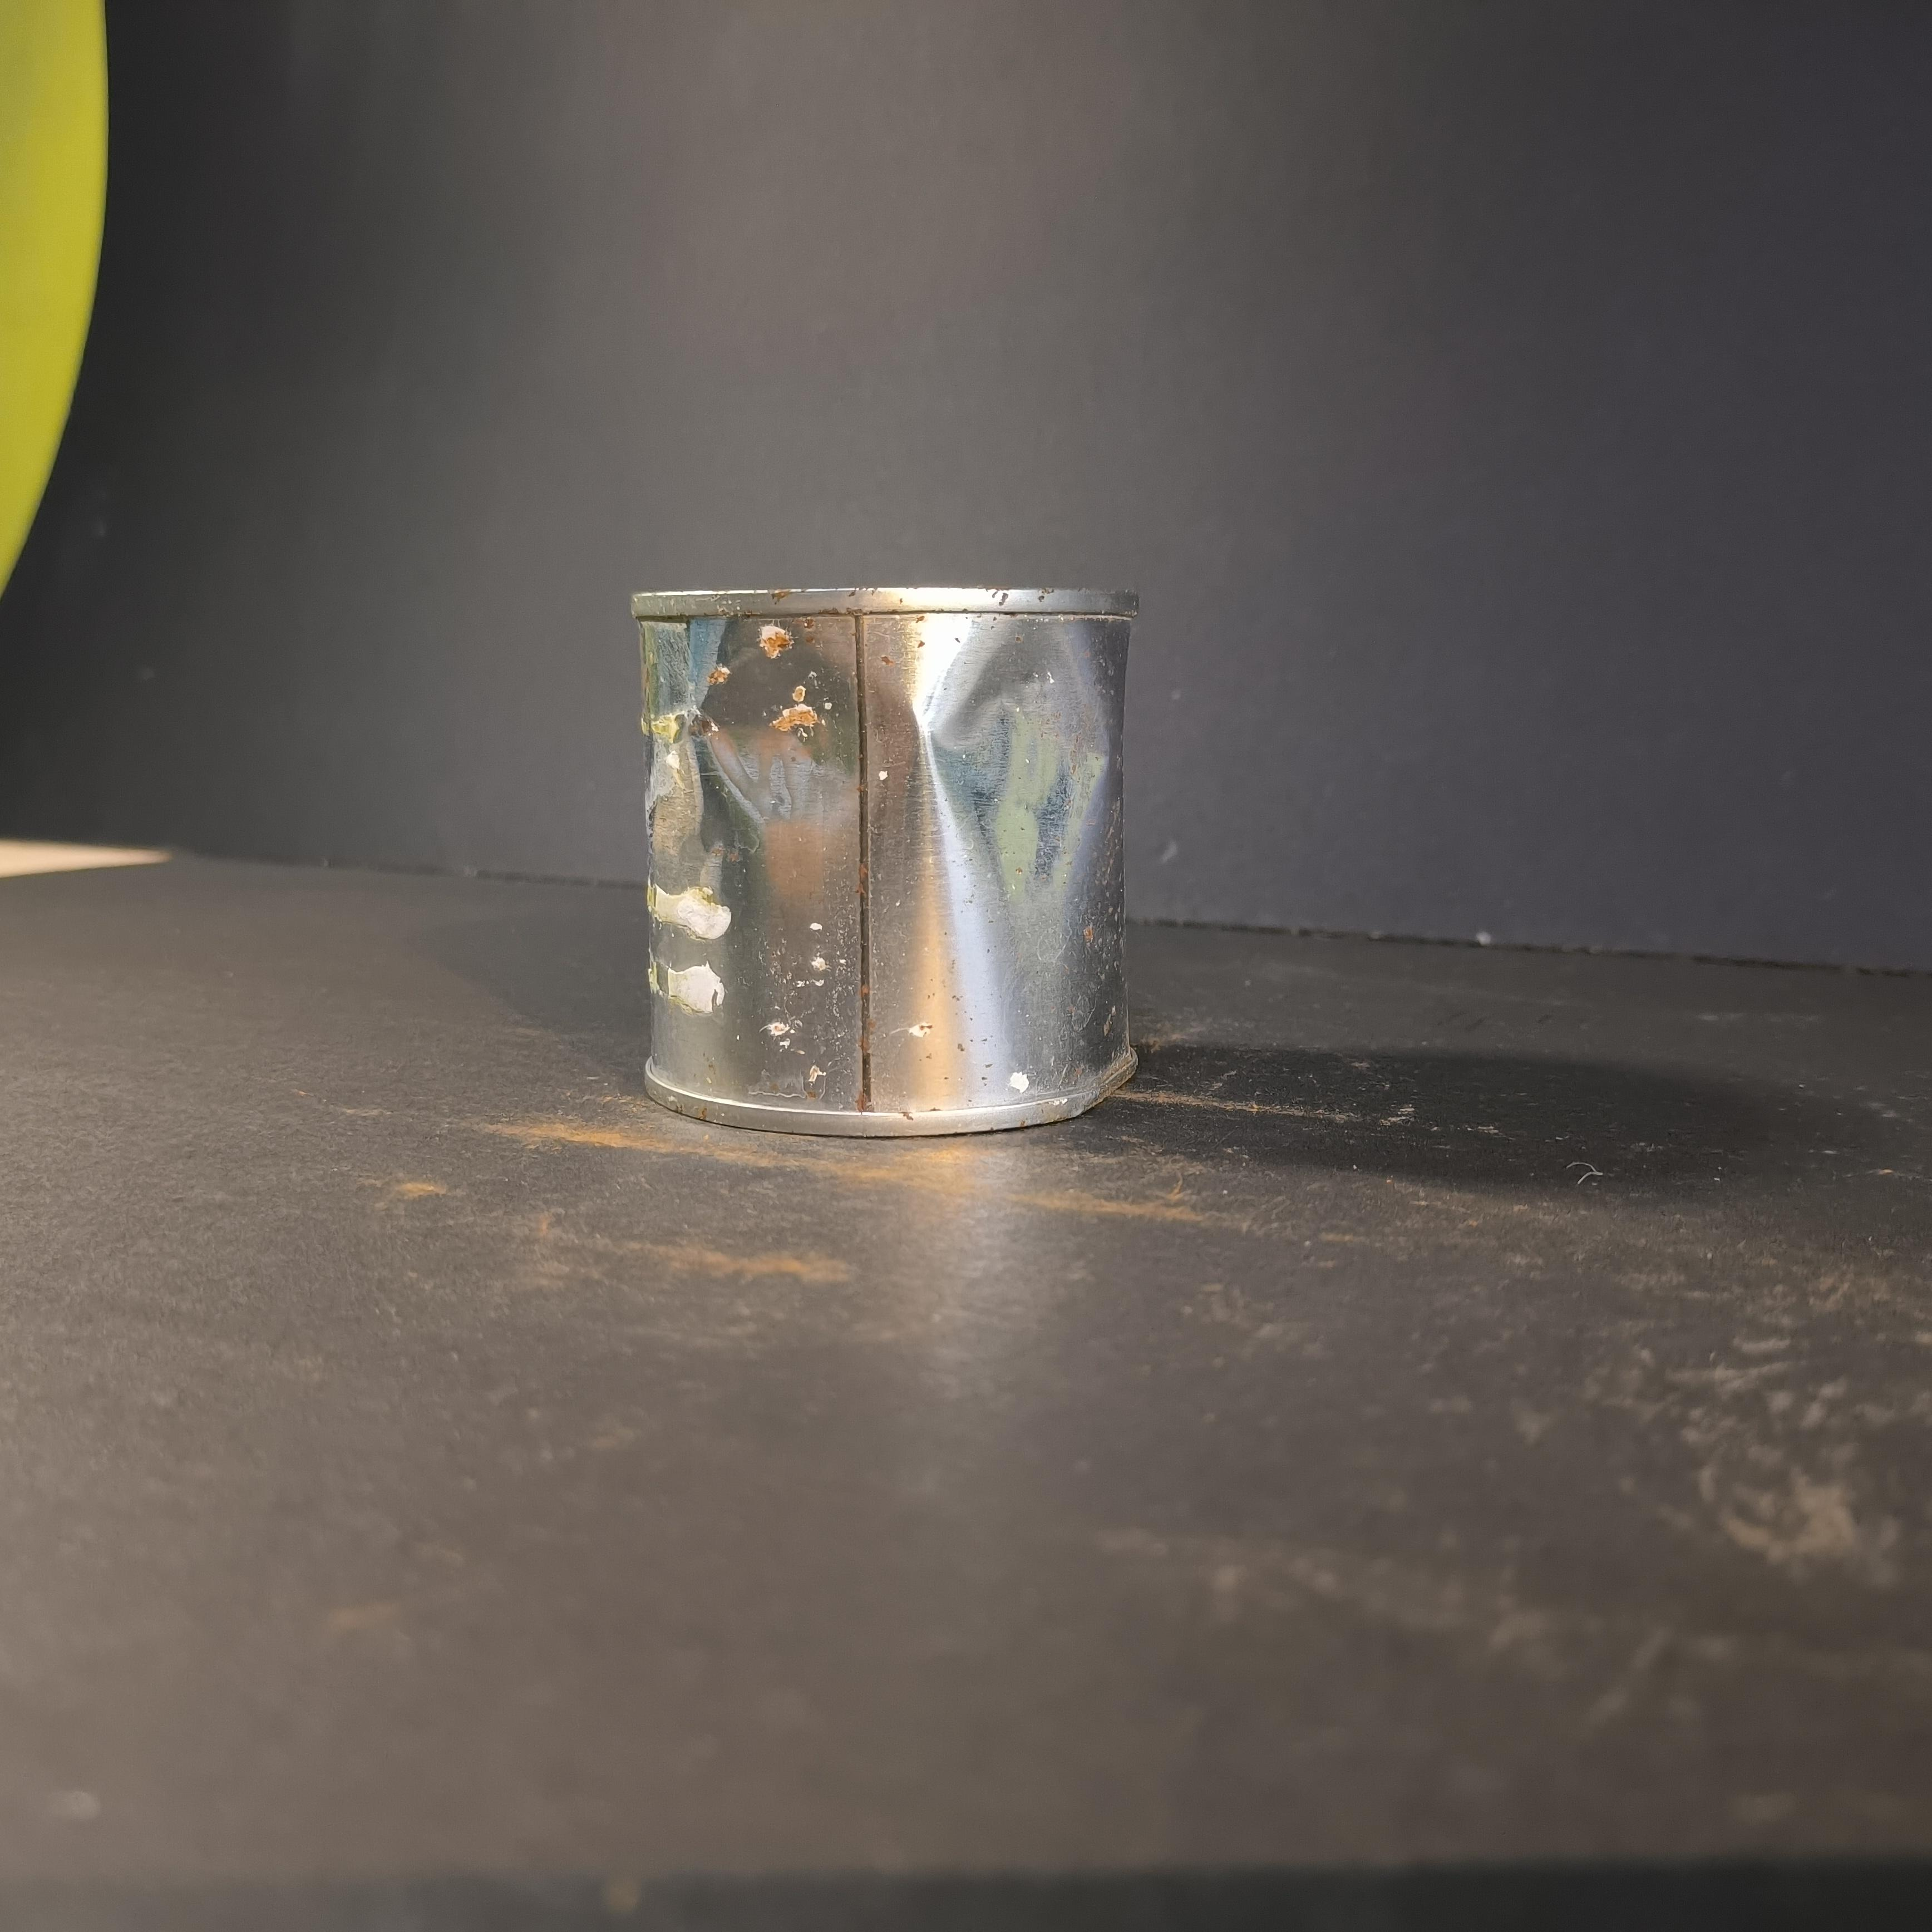Minor Defect: (632, 587, 1142, 1134)
